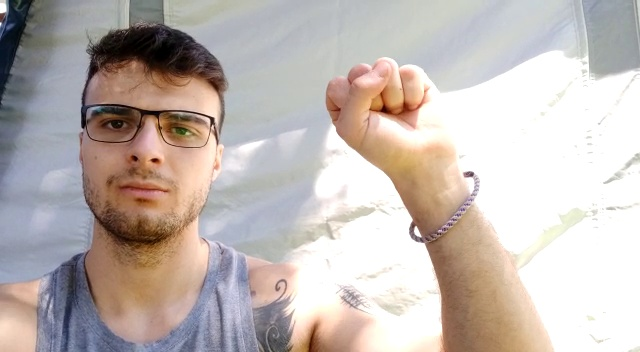Fist: (323, 55, 467, 172)
